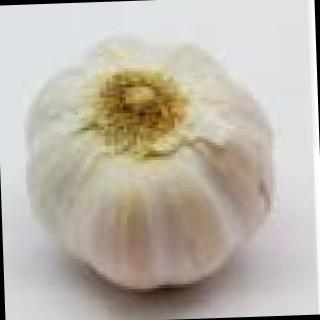Bawang Putih: (16, 19, 300, 297)
